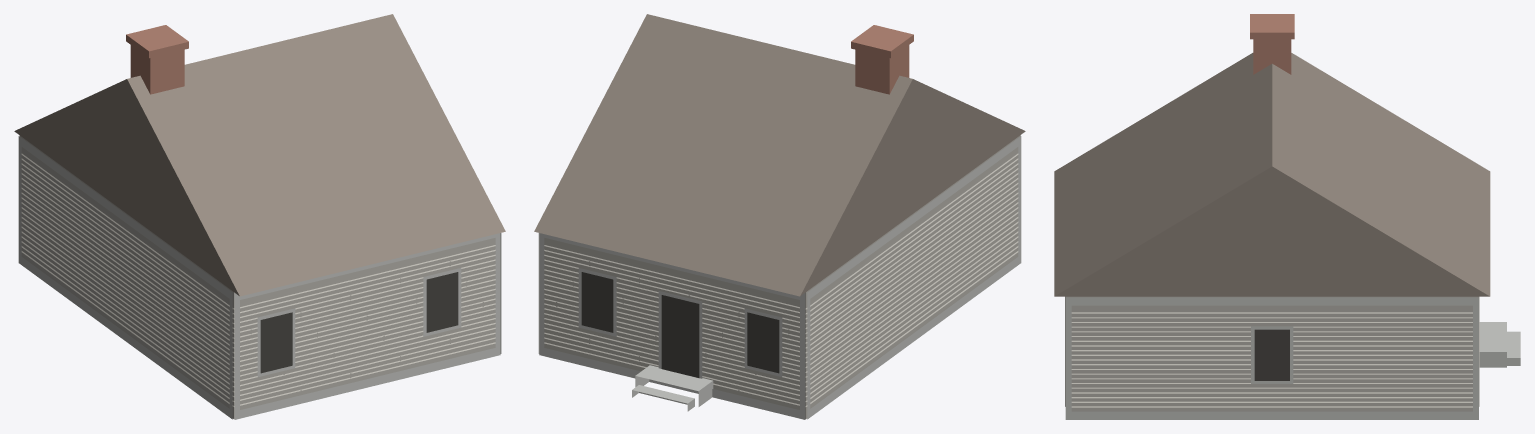
Rendered from recon_1835_blk_lake_franklin_d5_01__inferred_1835.glb.
3 views of the same model, side by side, from view 1: azimuth 30°, elevation 25°; view 2: azimuth 150°, elevation 25°; view 3: azimuth 270°, elevation 25° (orthographic). The views are drawn at different scales.
Visible parts, largest first — view 1: recon_1835_blk_lake_franklin_d5_01__inferred_1835; view 2: recon_1835_blk_lake_franklin_d5_01__inferred_1835; view 3: recon_1835_blk_lake_franklin_d5_01__inferred_1835.
Boxes of the visible parts, left/top/right/bottom form: recon_1835_blk_lake_franklin_d5_01__inferred_1835: left=14, top=14, right=505, bottom=419; recon_1835_blk_lake_franklin_d5_01__inferred_1835: left=534, top=14, right=1025, bottom=419; recon_1835_blk_lake_franklin_d5_01__inferred_1835: left=1054, top=14, right=1520, bottom=419.
Bounding box in the file's own units: 6.6 × 6.92 × 10.26.
